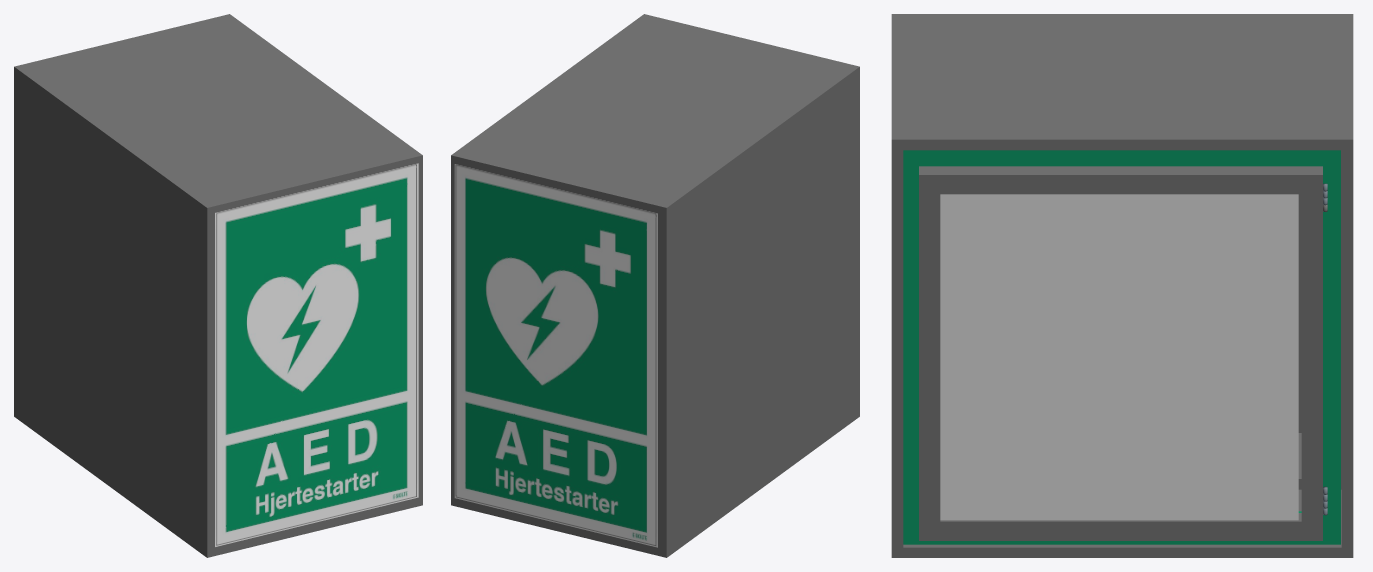
Rendered from Hjertestarter kasse.fbx.
The picture shows the model from 3 angles, left to right: view 1: azimuth 30°, elevation 25°; view 2: azimuth 150°, elevation 25°; view 3: azimuth 270°, elevation 25°; orthographic projection. The views are drawn at different scales.
Visible parts, largest first — view 1: Cube, HjerteStarter skilt; view 2: Cube, HjerteStarter skilt.001; view 3: Cube.002, Cube, Cube.001, Cube.003.
Boxes of the visible parts, x1=… form: Cube: x1=14, y1=14, x2=422, y2=557; HjerteStarter skilt: x1=215, y1=163, x2=418, y2=546; Cube: x1=451, y1=14, x2=859, y2=557; HjerteStarter skilt.001: x1=454, y1=164, x2=657, y2=547; Cube.002: x1=940, y1=194, x2=1298, y2=520; Cube: x1=891, y1=14, x2=1353, y2=557; Cube.001: x1=919, y1=166, x2=1322, y2=540; Cube.003: x1=903, y1=150, x2=1340, y2=544.
Size of the model in its own units: 271 by 400 by 408.
5 materials, 2 textured.
